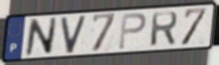7: (91, 12, 118, 54), (182, 6, 208, 47)
N: (24, 16, 59, 57)
P: (117, 11, 148, 51)
R: (149, 10, 180, 48)
V: (59, 14, 89, 55)
